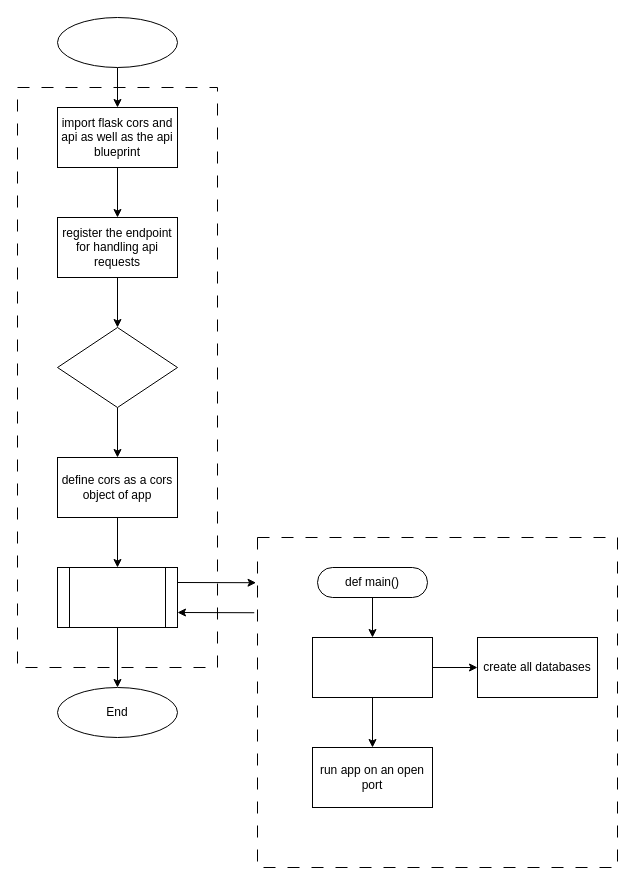
This 635x885 diagram has some shape labels left out. Here are the shapes that lost their labels. From the top down, the centre of each, then its label:
At point 117,42: "Start".
At point 117,367: "does __name__ = __main__".
At point 117,597: "main()".
At point 372,667: "enter app context".
